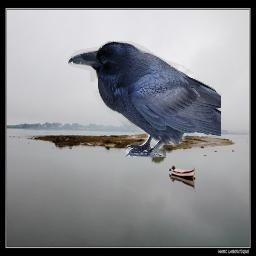Crow: (68, 41, 221, 157)
